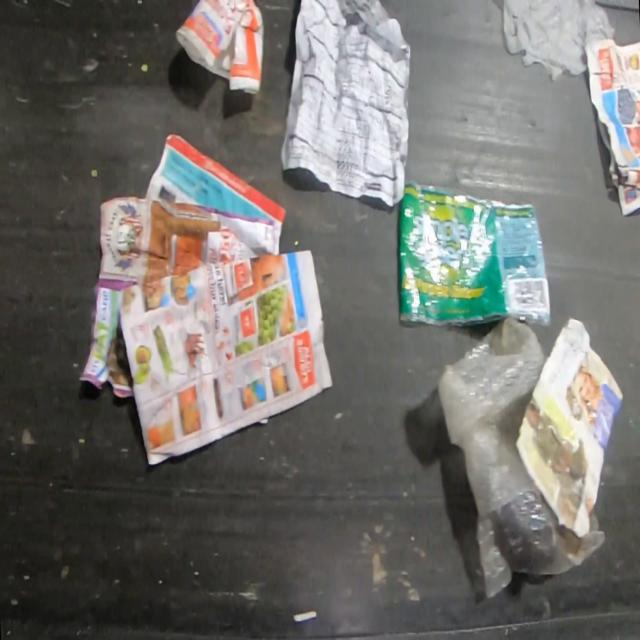rigid_plastic: (173, 0, 265, 97)
soft_plastic: (438, 317, 606, 598), (398, 179, 555, 332)
